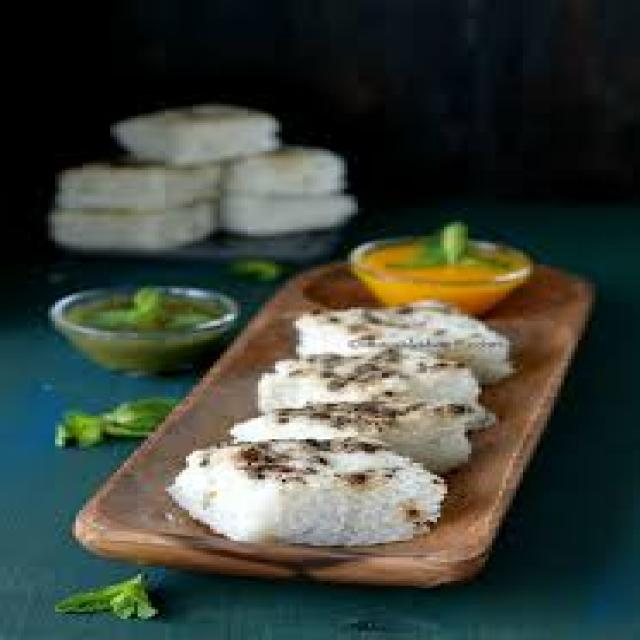DHOKLA: (169, 302, 509, 543)
